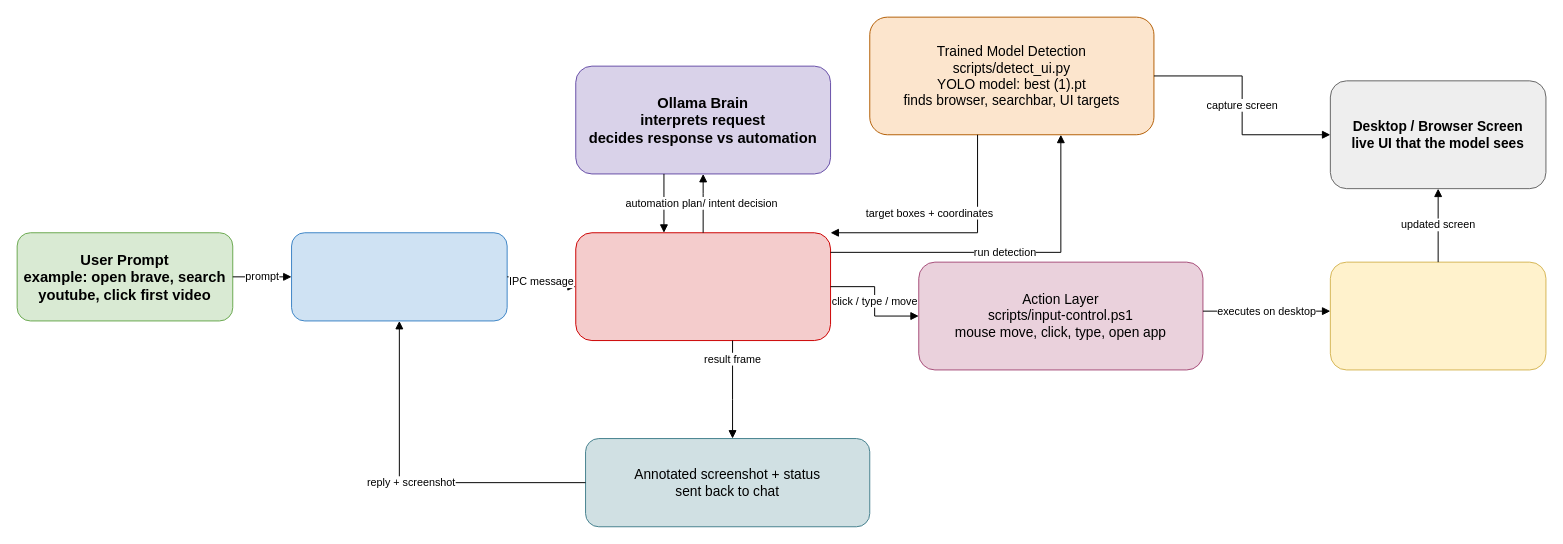
Image size: 1563x544. Some labels were removed from this diagram. The shapes that lost their labels are listed below. From the top down, each one's centre as x and y in pixels, then its label:
(x=399, y=276): Electron Chat UI renderer + preload + IPC
(x=703, y=286): Electron Main Orchestrator electron/main.js parses commands and runs workflow
(x=1437, y=315): Real Action Result browser opens, search runs, video opens
